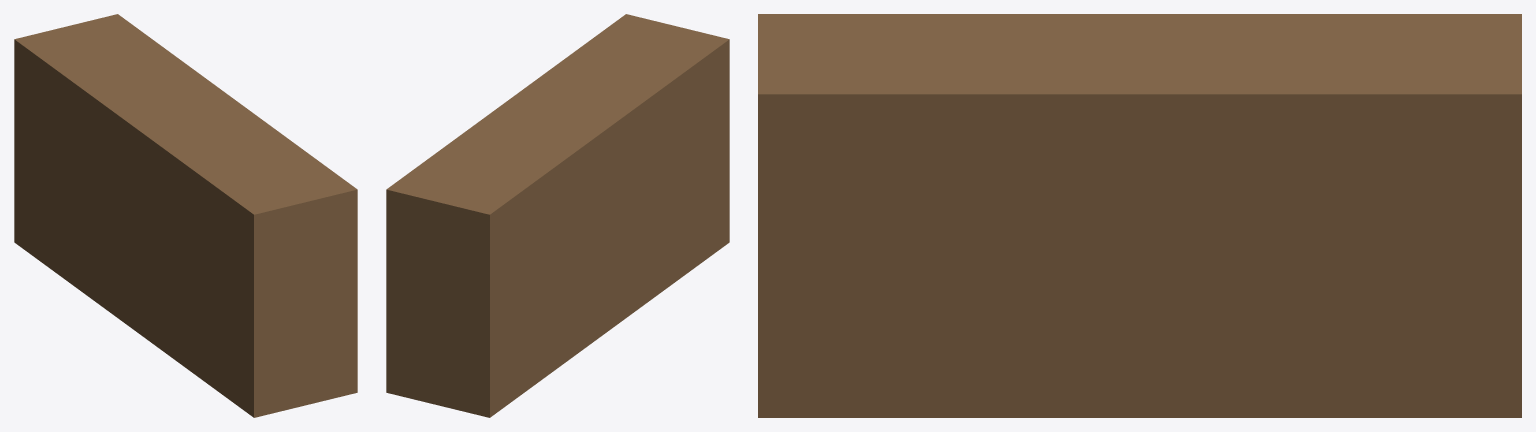
The model's file is porch-22.glb.
3 renders of one model, left to right at view 1: azimuth 30°, elevation 25°; view 2: azimuth 150°, elevation 25°; view 3: azimuth 270°, elevation 25°, orthographic. The views are drawn at different scales.
Bounding box in the file's own units: 1 × 1.88 × 4.01.
